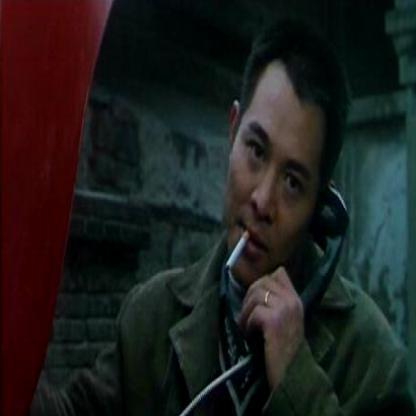cigarette: (226, 228, 251, 272)
person: (130, 14, 388, 415)
